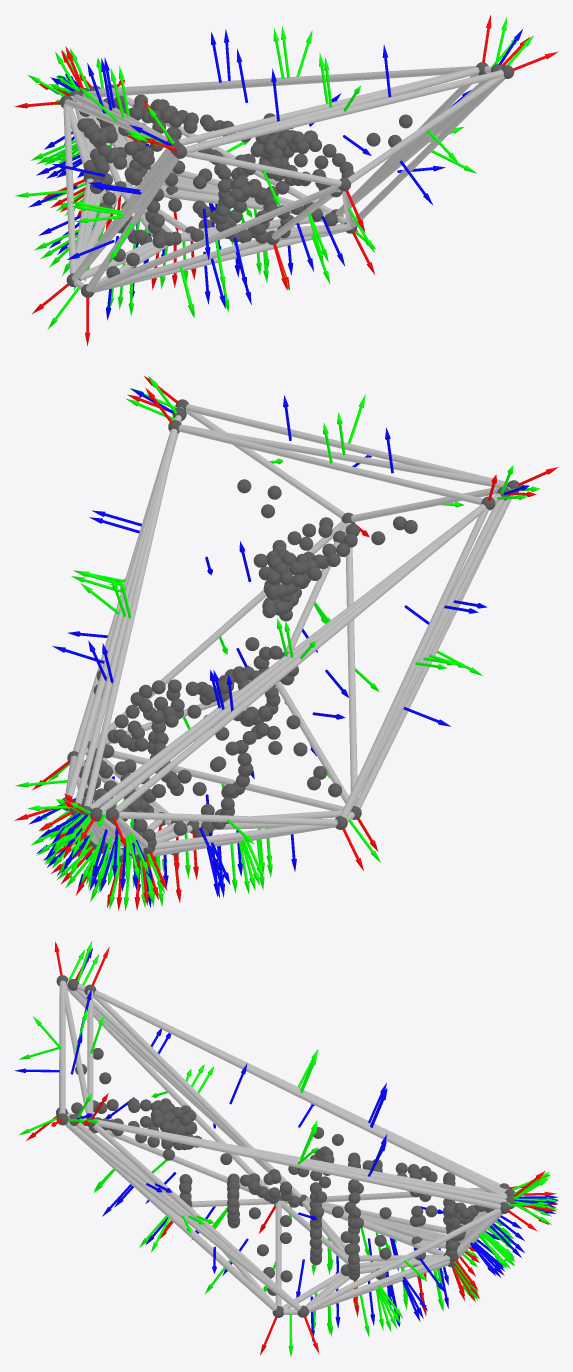
The model's file is ils_spacecraft_29.gltf.
The picture shows the model from 3 angles, top to bottom: view 1: azimuth 30°, elevation 25°; view 2: azimuth 150°, elevation 25°; view 3: azimuth 270°, elevation 25°; orthographic projection. The views are drawn at different scales.
Size of the model in its own units: 0.6823 by 0.5494 by 0.9014.
